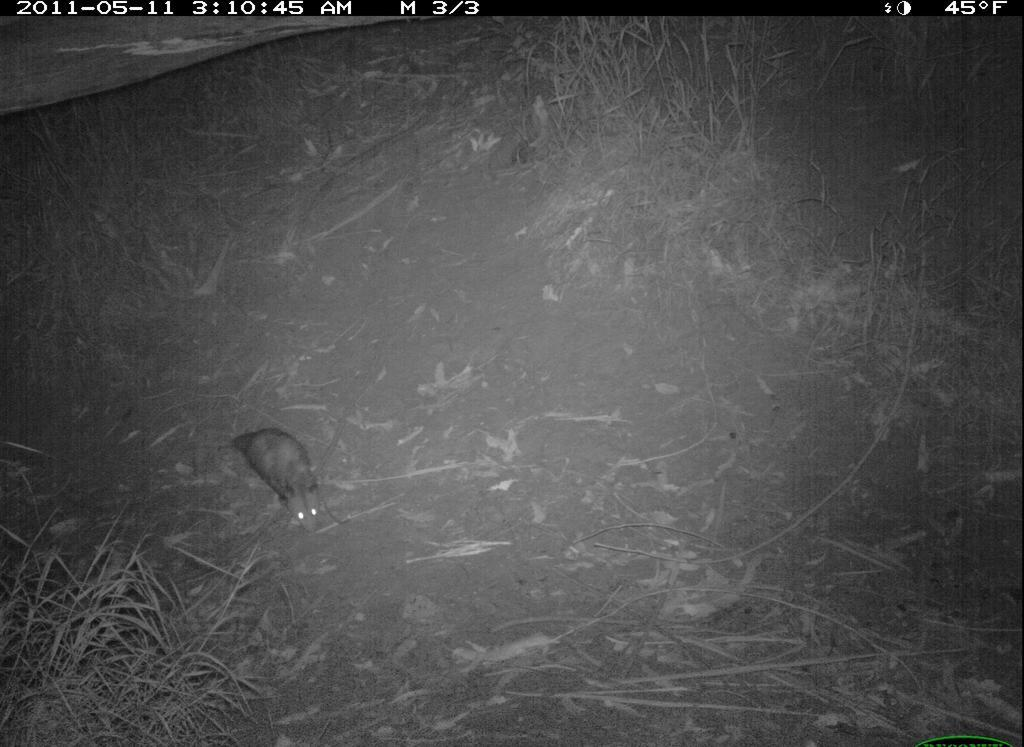opossum: (227, 422, 349, 542)
